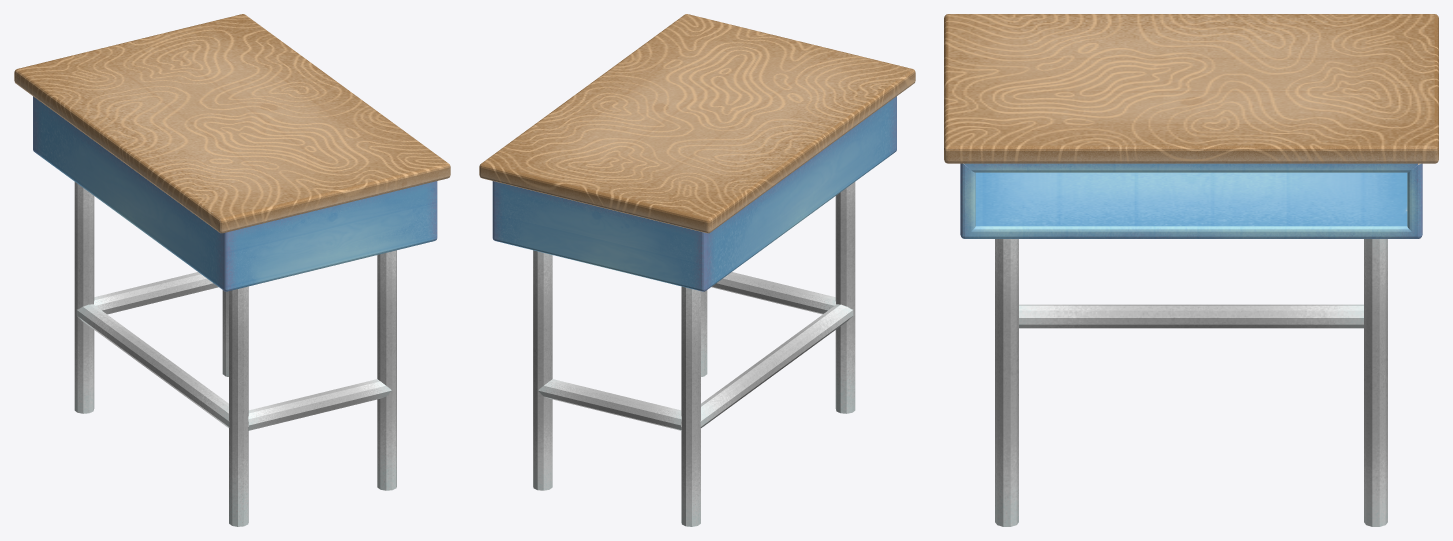
Rendered from pupitre.fbx.
3 views of the same model, side by side, from view 1: azimuth 30°, elevation 25°; view 2: azimuth 150°, elevation 25°; view 3: azimuth 270°, elevation 25° (orthographic). The views are drawn at different scales.
Parts seen in each view (by area): view 1: pupitre; view 2: pupitre; view 3: pupitre.
Part boxes in pixels (x1,y1,x2,y2): pupitre: (14,14,450,526); pupitre: (479,14,915,526); pupitre: (944,14,1438,526).
Size of the model in its own units: 159 by 218 by 246.
